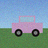vehicle: (12, 16, 43, 37)
